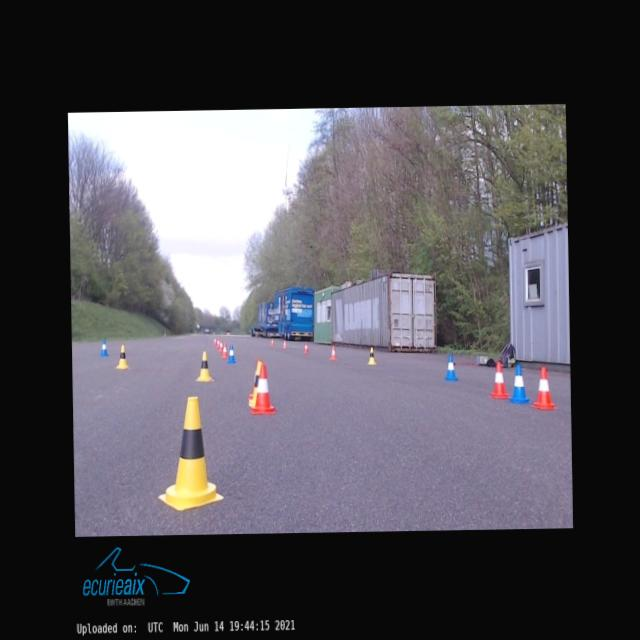blue_cone: (507, 364, 531, 403), (444, 352, 458, 380), (227, 344, 236, 362), (100, 338, 108, 356)
orange_cone: (528, 366, 558, 409), (250, 364, 274, 414), (488, 362, 509, 398), (248, 359, 262, 399), (220, 342, 228, 358), (329, 344, 337, 360), (303, 342, 309, 352), (218, 340, 222, 350), (282, 338, 286, 348), (212, 338, 216, 344), (217, 339, 220, 347), (270, 339, 274, 345)
yellow_cone: (157, 396, 223, 511), (194, 351, 214, 382), (248, 362, 262, 406), (115, 345, 128, 368), (367, 346, 376, 364)
